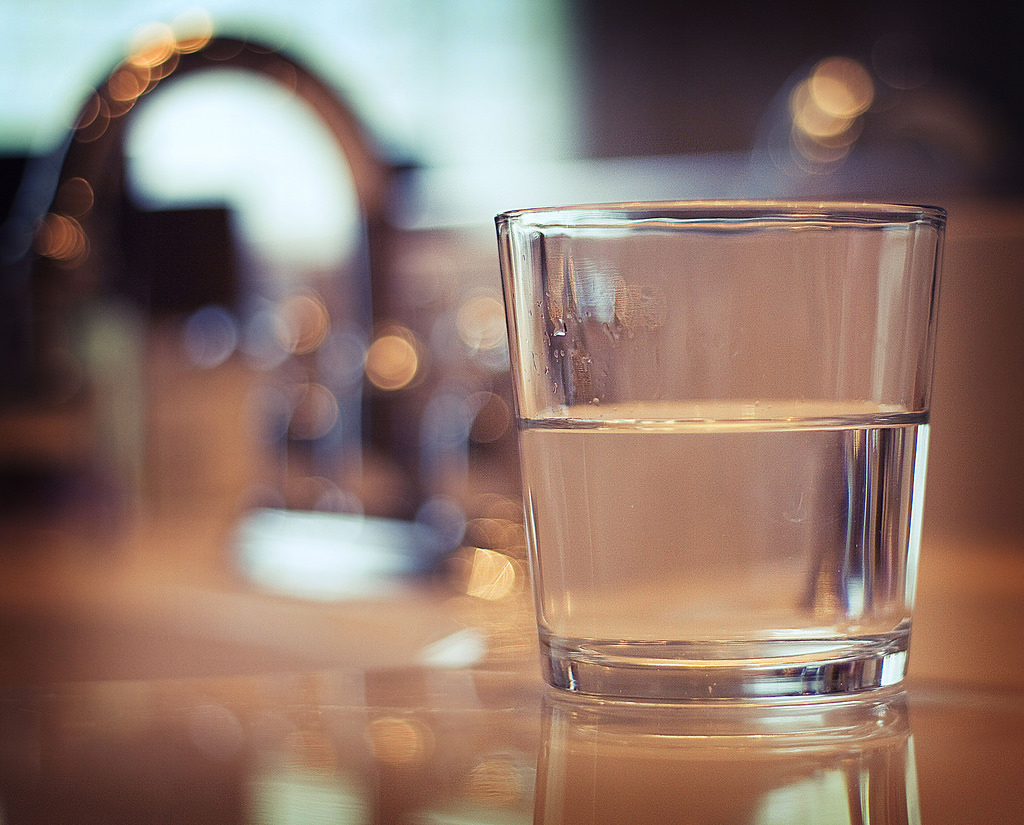glass of water: (475, 209, 932, 750)
